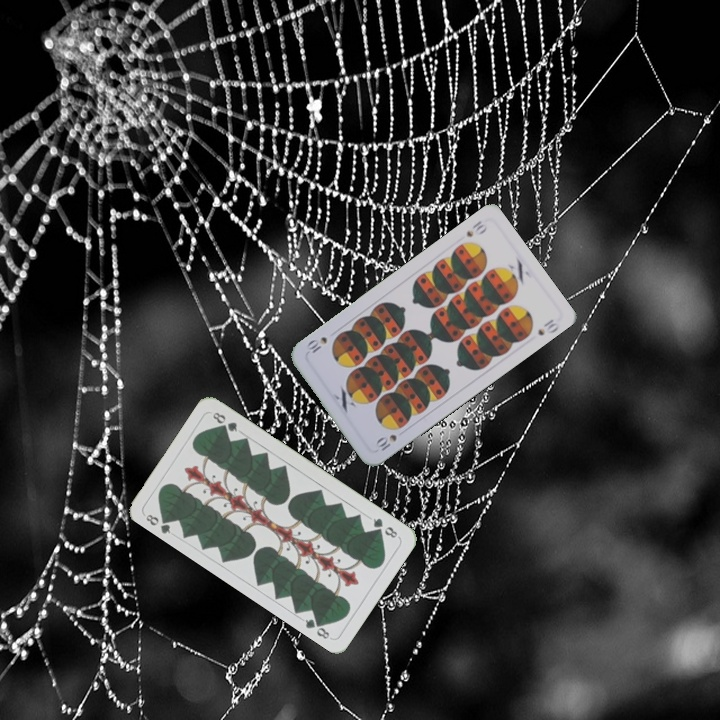G8: (142, 510, 175, 537), (369, 514, 400, 541)
S10: (462, 216, 490, 240), (372, 430, 399, 454)
